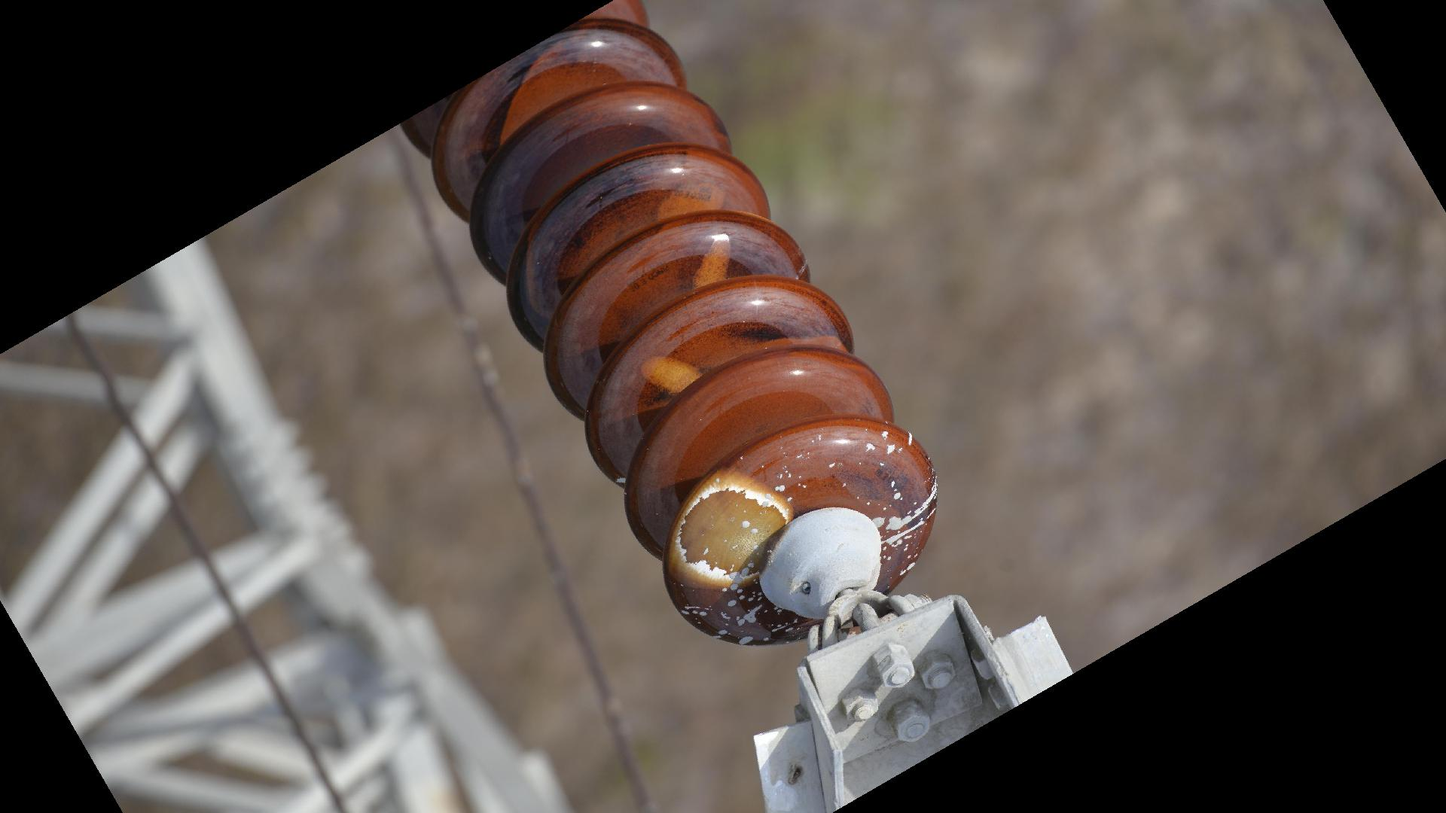insulator: (388, 1, 946, 655)
insulator_flashover: (673, 480, 792, 583), (686, 228, 735, 297), (637, 349, 707, 397)
